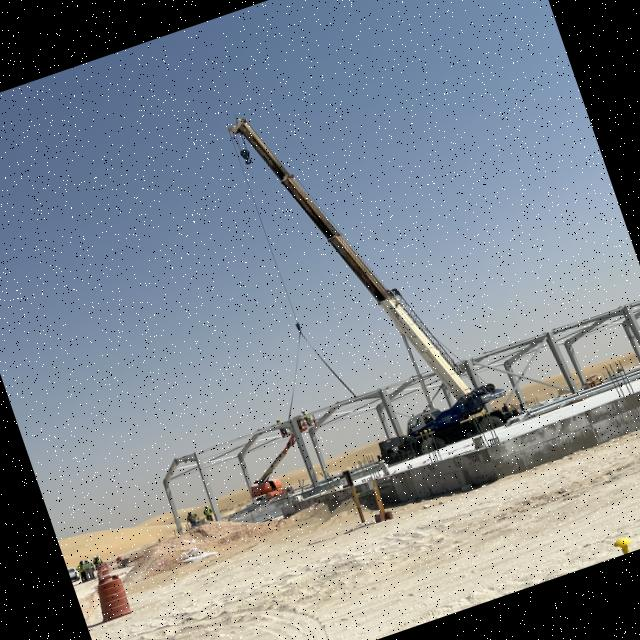Mobile Crane: (192, 57, 514, 485), (226, 402, 340, 511)
